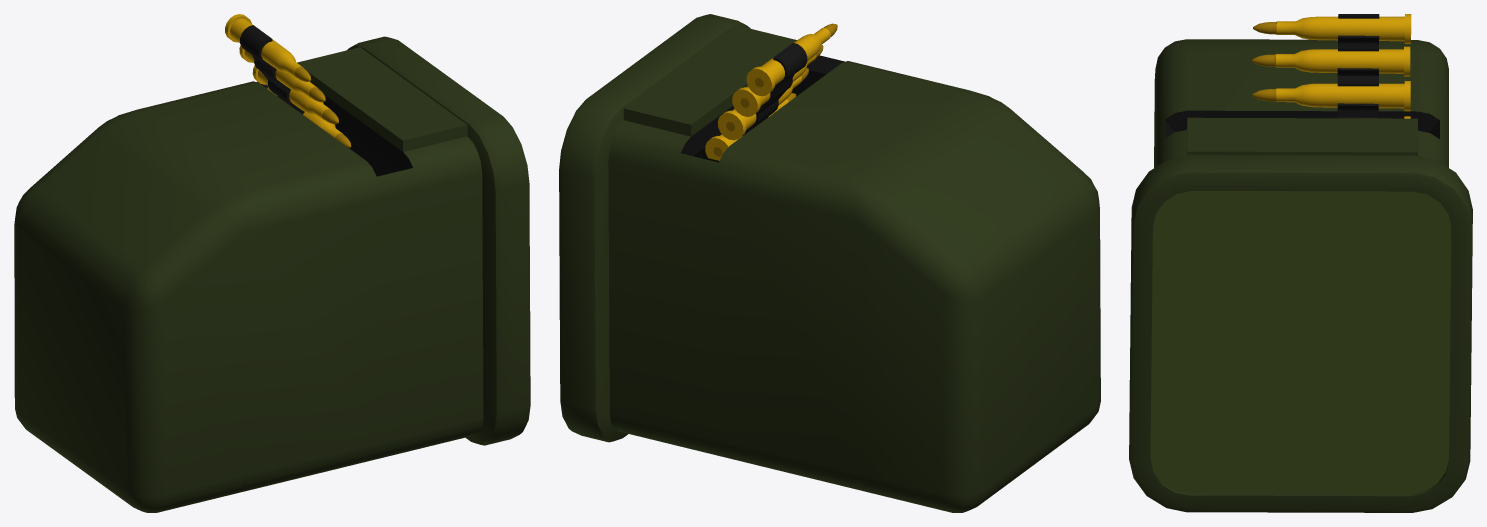
File: mag_6.fbx
3 renders of one model, left to right at view 1: azimuth 30°, elevation 25°; view 2: azimuth 150°, elevation 25°; view 3: azimuth 270°, elevation 25°, orthographic. The views are drawn at different scales.
Parts seen in each view (by area): view 1: mag_6; view 2: mag_6; view 3: mag_6.
Boxes of the visible parts, x1,y1,x2,y2 form: mag_6: (14, 14, 530, 512); mag_6: (559, 14, 1100, 512); mag_6: (1129, 14, 1472, 512).
Size of the model in its own units: 819 by 790 by 594.
